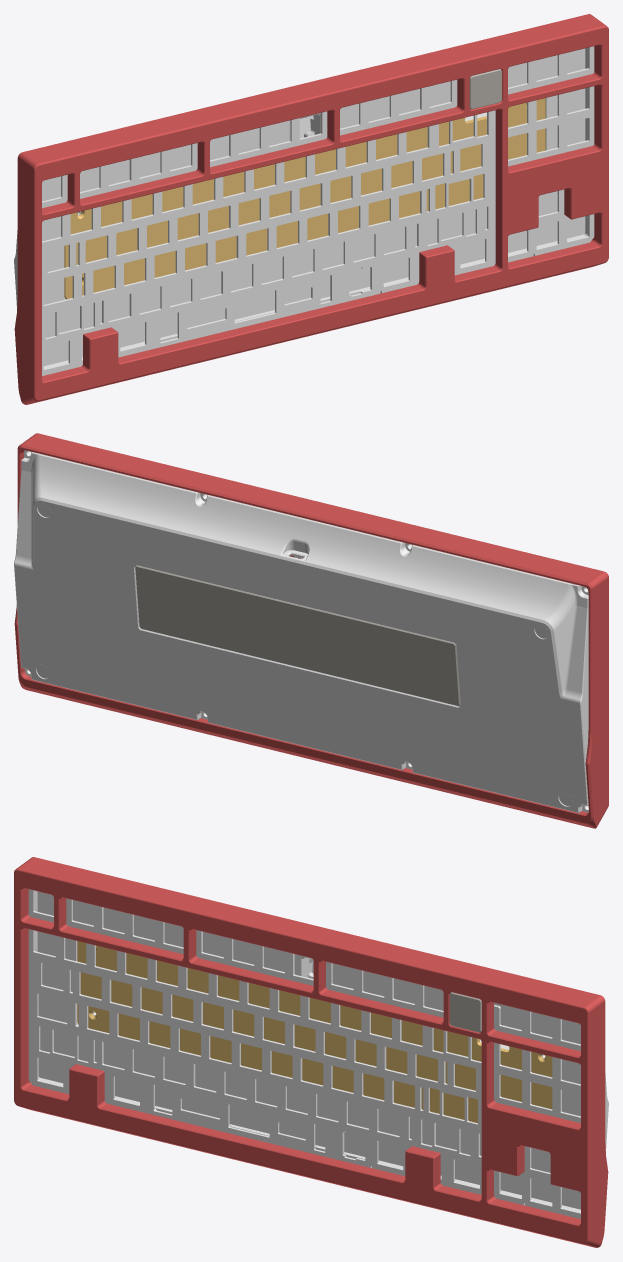
Rendered from revtkl-rev.fbx.
The picture shows the model from 3 angles, top to bottom: view 1: azimuth 30°, elevation 25°; view 2: azimuth 150°, elevation 25°; view 3: azimuth 330°, elevation 25°; orthographic projection.
Parts seen in each view (by area): view 1: Top, Plate, Bottom, IntWeight, F13; view 2: Bottom, Top, Outweight; view 3: Top, Plate, Bottom, IntWeight, F13.
Boxes of the visible parts, bbox=[...] form: Top: bbox=[14, 14, 608, 404]; Plate: bbox=[42, 46, 594, 375]; Bottom: bbox=[14, 47, 588, 368]; IntWeight: bbox=[64, 98, 545, 299]; F13: bbox=[469, 69, 501, 109]; Bottom: bbox=[14, 450, 588, 812]; Top: bbox=[14, 433, 608, 828]; Outweight: bbox=[135, 565, 460, 706]; Top: bbox=[14, 857, 608, 1247]; Plate: bbox=[28, 889, 580, 1218]; Bottom: bbox=[34, 890, 608, 1212]; IntWeight: bbox=[77, 941, 552, 1123]; F13: bbox=[449, 992, 481, 1032].
Bounding box in the file's own units: 359 × 148 × 32.32.
